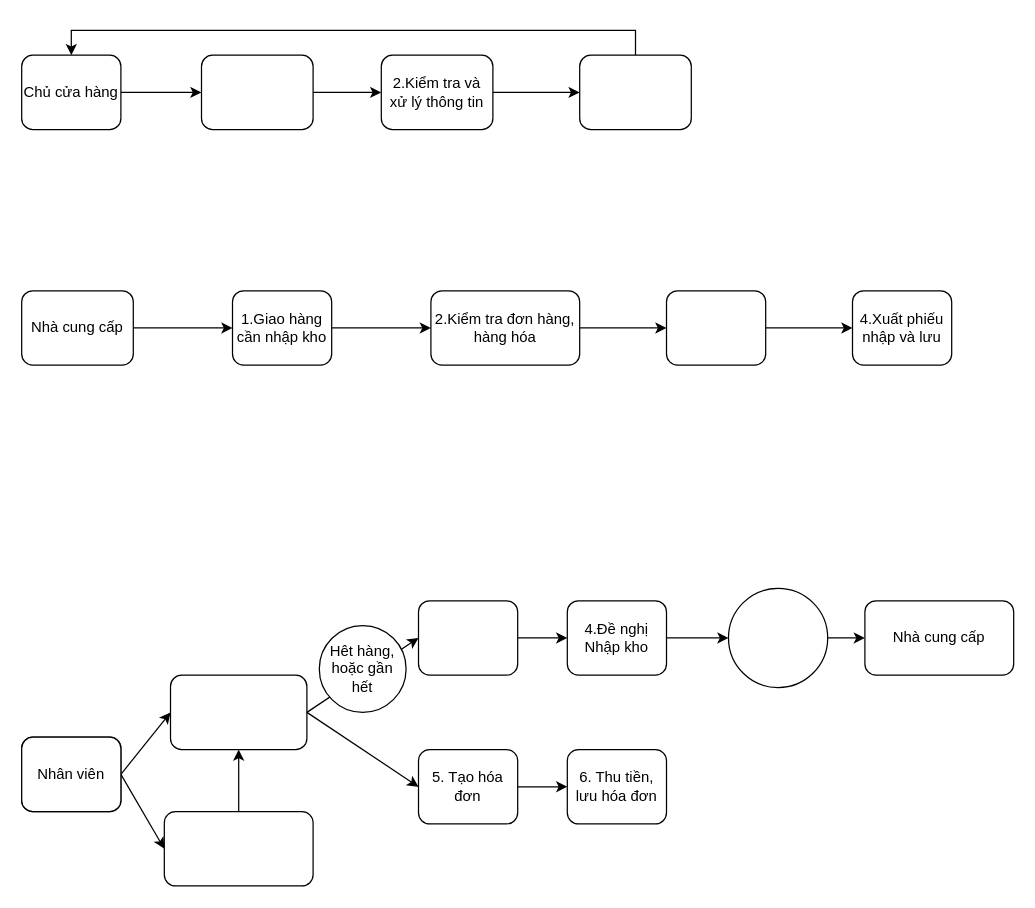
This 1035x908 diagram has some shape labels left out. The centre of each missing label's shape, as x and y in pixels:
1.Bán hàng: pixel 238 848
1.Yêu cầu báo cáo thống kê: pixel 256 92
2.Kiểm tra hàng trong kho: pixel 238 712
3.Báo cáo: pixel 467 637
3.Nhập hàng: pixel 715 327
Duyệt: pixel 777 637
Thông tin báo cáo thông kê: pixel 634 92
